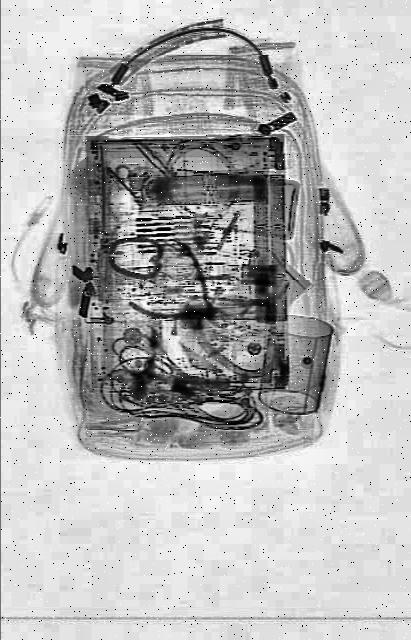Pliers: (130, 231, 244, 365)
